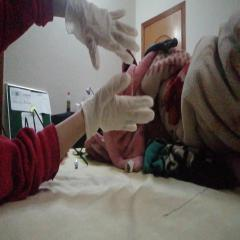gloved: (64, 1, 140, 70), (84, 72, 154, 132)
